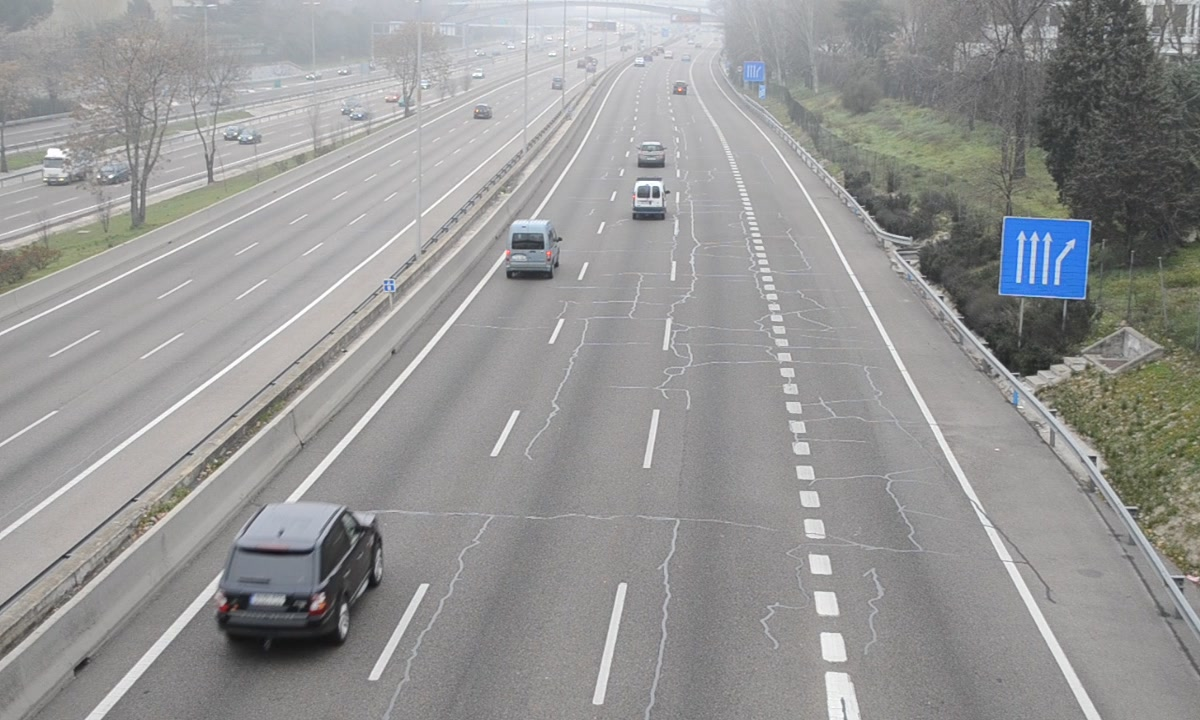car: (216, 504, 379, 642), (636, 141, 666, 168)
van: (506, 219, 561, 276), (632, 178, 666, 220)
